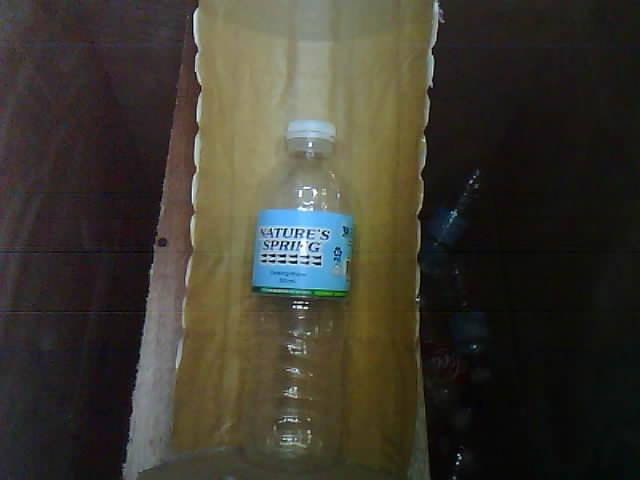small_bottle: (235, 109, 367, 480)
